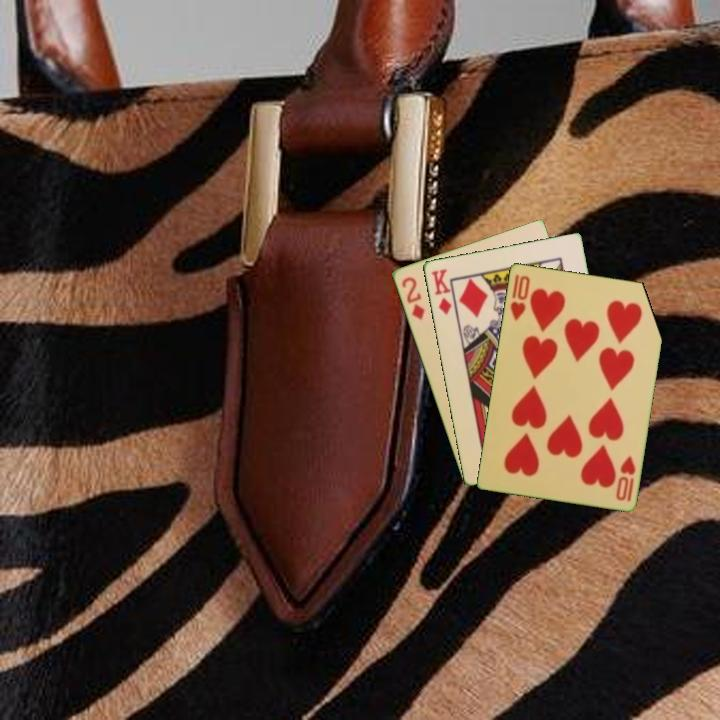10h: (506, 272, 533, 323), (612, 452, 638, 504)
2d: (398, 273, 427, 322)
Kd: (427, 265, 454, 317)
